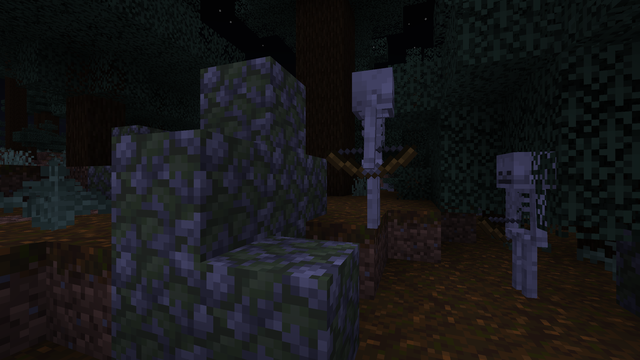squelettes: (493, 152, 560, 304), (346, 65, 397, 231)
